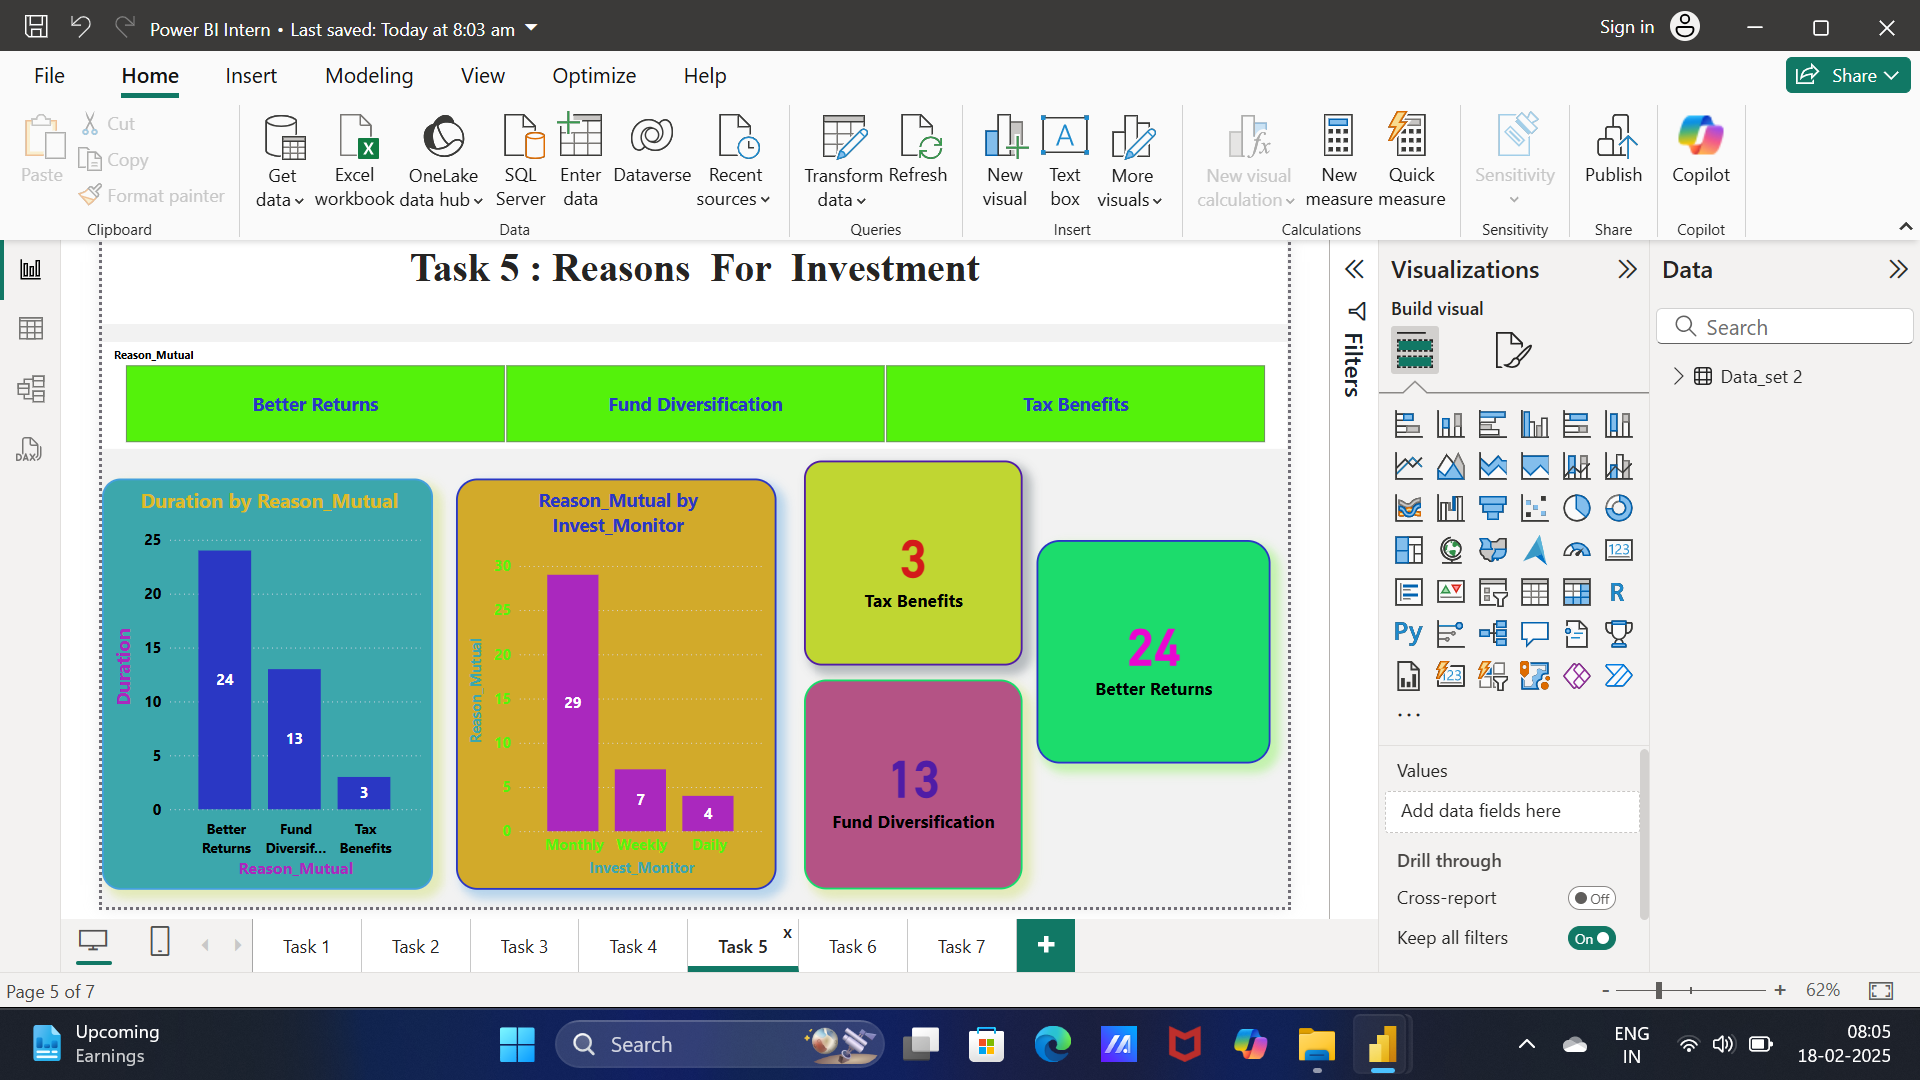

The dashboard page shown, as its layout file describes it:
{"tool":"powerbi","page":{"name":"Task 5","canvas":[1280,720],"ordinal":4},"visuals":[{"type":"textbox","box":[0,0,1279.4,90.7],"z":0},{"type":"clusteredColumnChart","fields":{"Category":["Data_set 2.Reason_Mutual"],"Y":["CountNonNull(Data_set 2.Duration)"]},"box":[0,257,357.2,444.1],"z":1000},{"type":"clusteredColumnChart","fields":{"Category":["Data_set 2.Invest_Monitor"],"Y":["CountNonNull(Data_set 2.Reason_Mutual)"]},"box":[381.7,257,345.8,444.1],"z":2000},{"type":"slicer","fields":{"Values":["Data_set 2.Reason_Mutual"]},"box":[0,109.6,1279.4,115.3],"z":3000},{"type":"card","fields":{"Values":["Data_set 2.Tax Benefits"]},"box":[757.7,237.8,236,221.2],"z":4000},{"type":"card","fields":{"Values":["Data_set 2.Fund Diversification"]},"box":[757.7,473.8,236,226.8],"z":5000},{"type":"card","fields":{"Values":["Data_set 2.Better Returns"]},"box":[1008.4,324.5,252.6,241.5],"z":6000}]}

Visuals, with their boxes on the page's 1280x720 design canvas (x1, y1, x2, y2). These are canvas units, not pixel positions in the 1920x1080 screenshot, which may show the page scaled, cropped or inside an application window:
textbox: region(0, 0, 1279, 91)
clusteredColumnChart - Data_set 2.Reason_Mutual x CountNonNull(Data_set 2.Duration): region(0, 257, 357, 701)
clusteredColumnChart - Data_set 2.Invest_Monitor x CountNonNull(Data_set 2.Reason_Mutual): region(382, 257, 728, 701)
slicer - Data_set 2.Reason_Mutual: region(0, 110, 1279, 225)
card - Data_set 2.Tax Benefits: region(758, 238, 994, 459)
card - Data_set 2.Fund Diversification: region(758, 474, 994, 701)
card - Data_set 2.Better Returns: region(1008, 324, 1261, 566)
